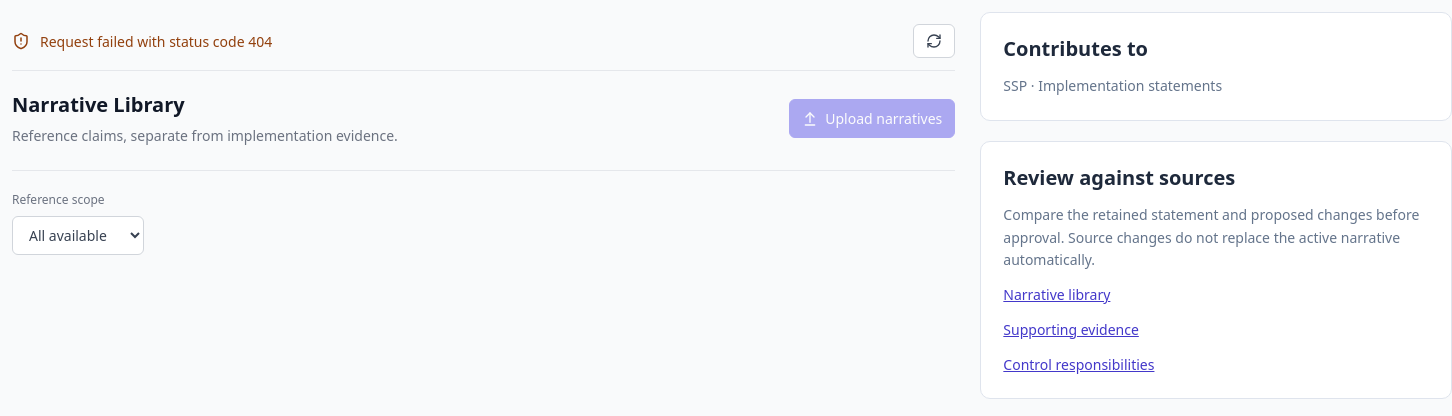
it: Narratives workspace › distinguishes a failed library request from a valid empty result and supports retry
Expected: the message reads "Request failed with status code 404", [40,32,272,50]
Expected: the text "No reference narratives published." is not shown
Click the button titled "Retry loading". click: x=934, y=41
box: [913,24,955,58]
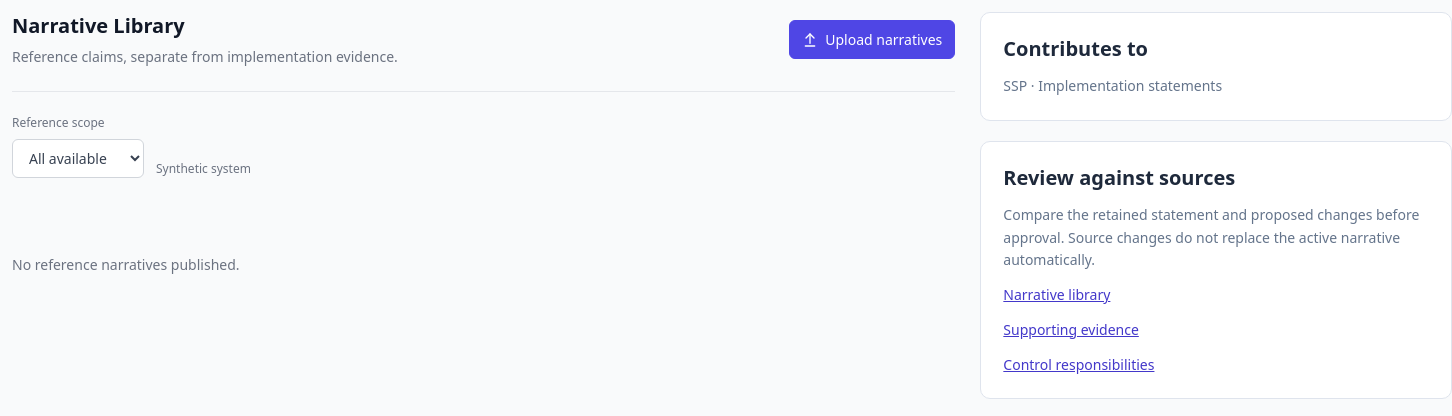
Result: the text "No reference narratives published." is shown at [12,255,240,274]
Result: the message "Request failed with status code 404" is gone
Result: the button "Upload narratives" is enabled at [789,20,955,59]
